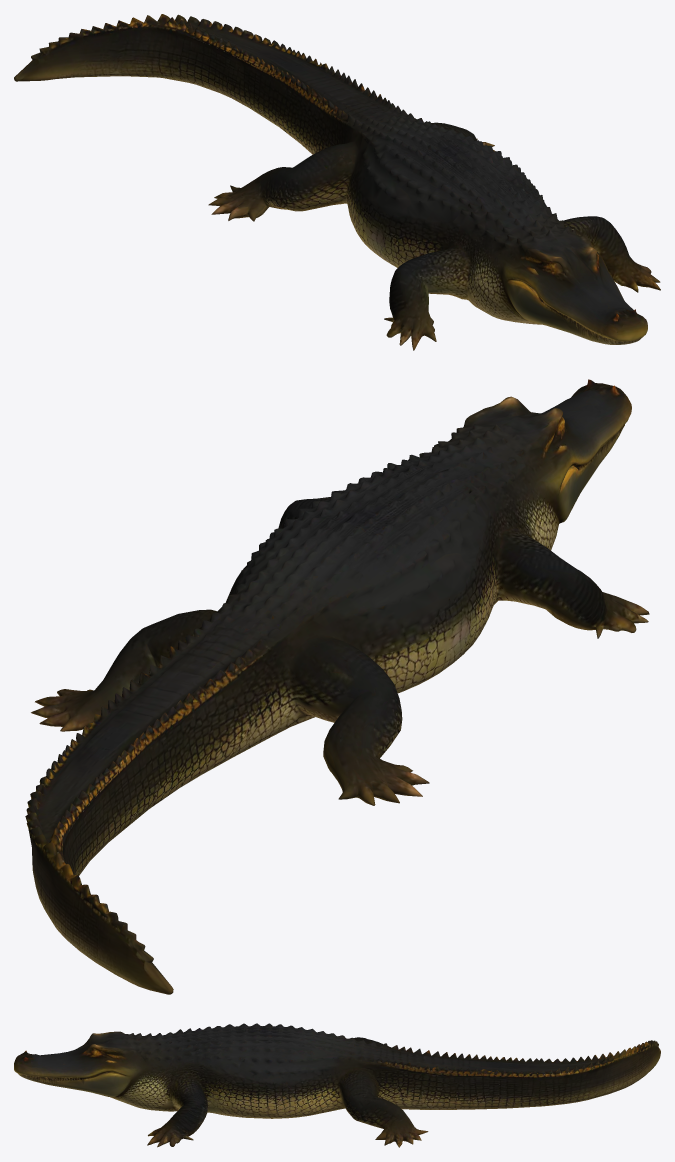
The model's file is american-alligator.glb.
3 views of the same model, one above another, from view 1: azimuth 30°, elevation 25°; view 2: azimuth 150°, elevation 25°; view 3: azimuth 270°, elevation 25° (orthographic). The views are drawn at different scales.
Parts seen in each view (by area): view 1: material; view 2: material; view 3: material.
Part boxes in pixels (x1,y1,x2,y2): material: [14, 14, 660, 350]; material: [25, 379, 649, 994]; material: [14, 1023, 660, 1147].
Size of the model in its own units: 0.4012 by 0.1432 by 1.13.
Materials: 1 (1 with a texture image).
